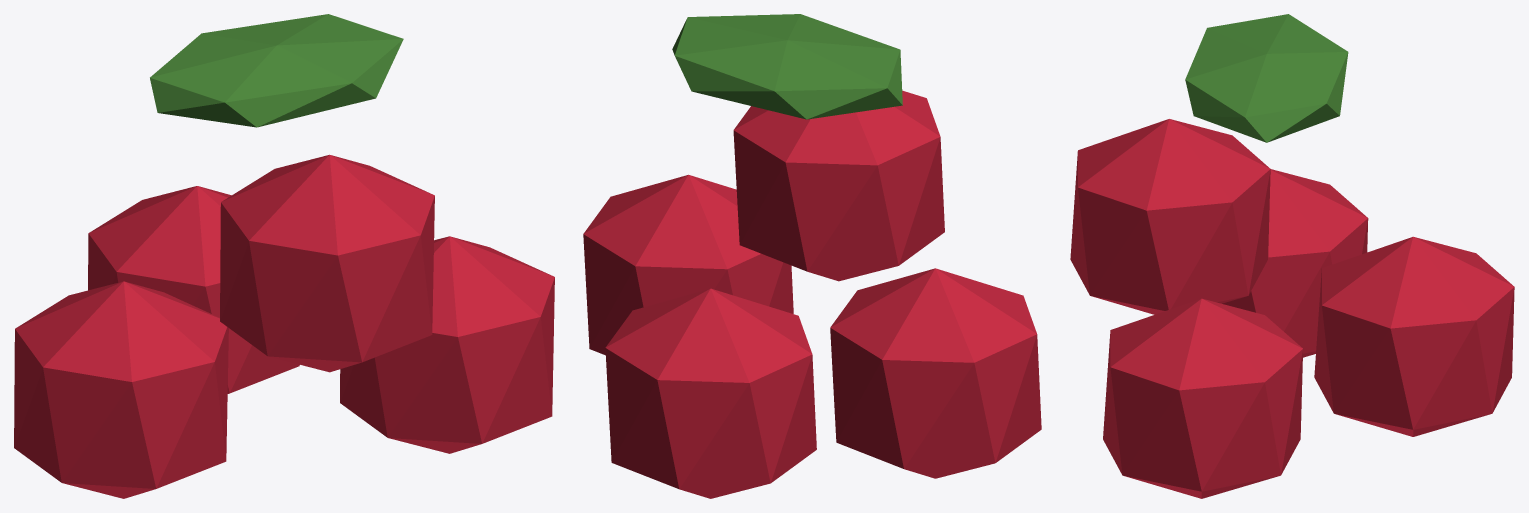
File: drop_berries.glb
The picture shows the model from 3 angles, left to right: view 1: azimuth 30°, elevation 25°; view 2: azimuth 150°, elevation 25°; view 3: azimuth 270°, elevation 25°; orthographic projection. The views are drawn at different scales.
Parts seen in each view (by area): view 1: drop_berries; view 2: drop_berries; view 3: drop_berries.
Part boxes in pixels (x1,y1,x2,y2): drop_berries: [14, 14, 554, 498]; drop_berries: [583, 14, 1041, 498]; drop_berries: [1070, 14, 1514, 498].
Bounding box in the file's own units: 0.1566 × 0.13 × 0.1366.
